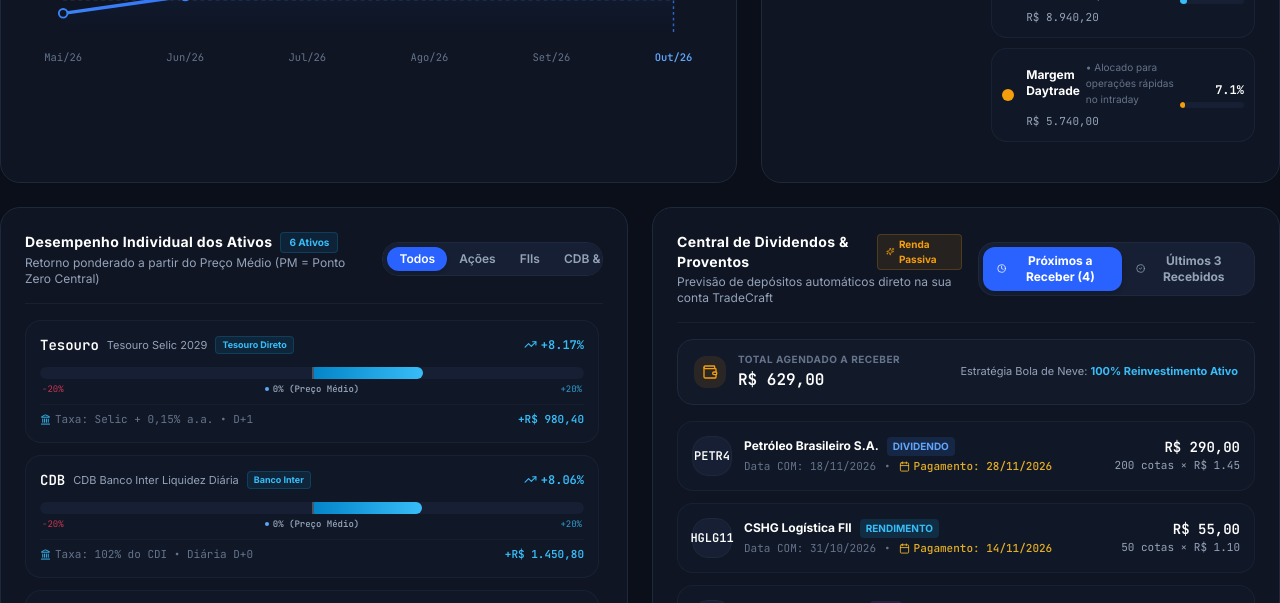
Test: PortfolioPage Integration Tests › should render upcoming and recent dividends with tab switching
The width and height of the screenshot is (1280, 603).
(page scrolled)
Expected: the text "Central de Dividendos & Proventos" is shown, [677, 232, 870, 272]
Expected: the text "Próximos a Receber (4)" is shown, [1026, 252, 1095, 284]
// Click on "Últimos 3 Recebidos"
What coordinates should you click on to do the following:
click the button "Últimos 3 Recebidos"
I would click on:
 (1186, 268)
Its box is [1122, 246, 1250, 290].
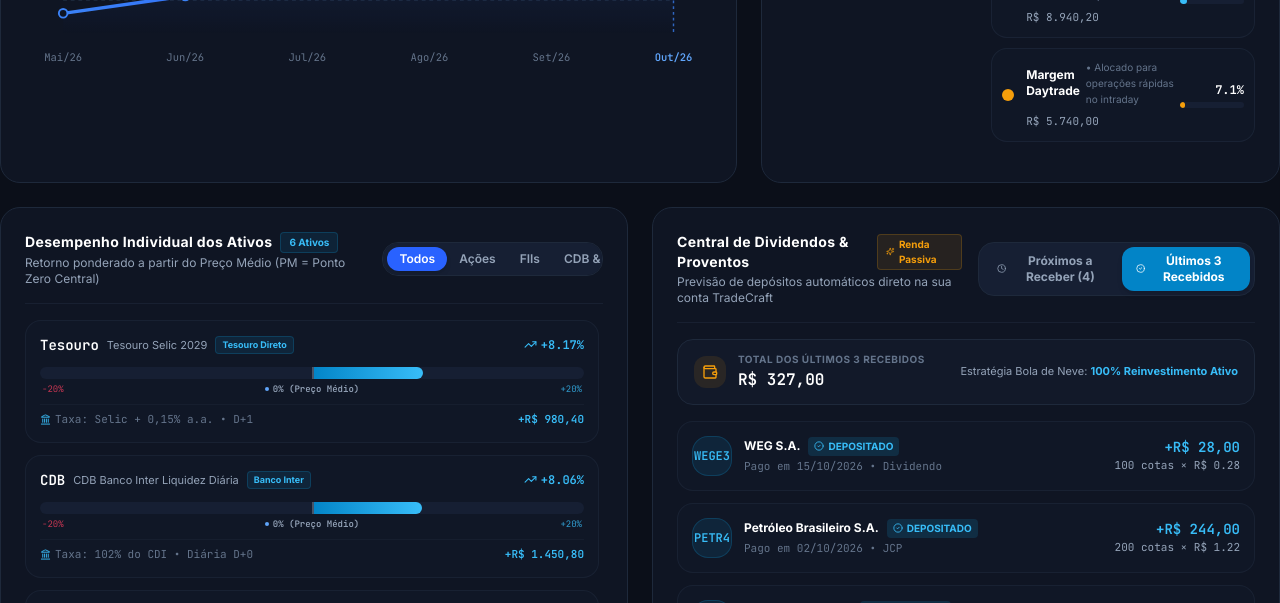
Expected: the text "Total dos Últimos 3 Recebidos" is shown, [738, 352, 925, 366]
